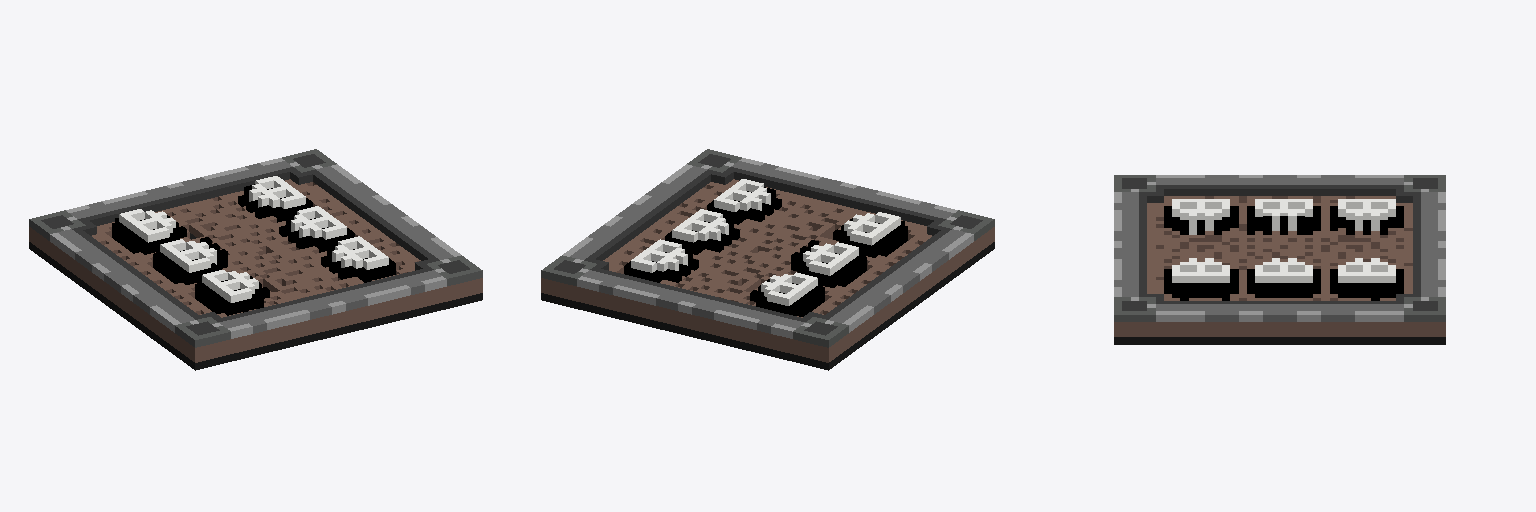
3 renders of one model, left to right at view 1: azimuth 30°, elevation 25°; view 2: azimuth 150°, elevation 25°; view 3: azimuth 270°, elevation 25°, orthographic.
Parts seen in each view (by area): view 1: object 1; view 2: object 1; view 3: object 1.
Part boxes in pixels (x1,y1,x2,y2): object 1: (29,149,482,370); object 1: (541,149,994,370); object 1: (1114,175,1445,344).
Size of the model in its own units: 4 by 0.5 by 4.
1 materials, 1 textured.